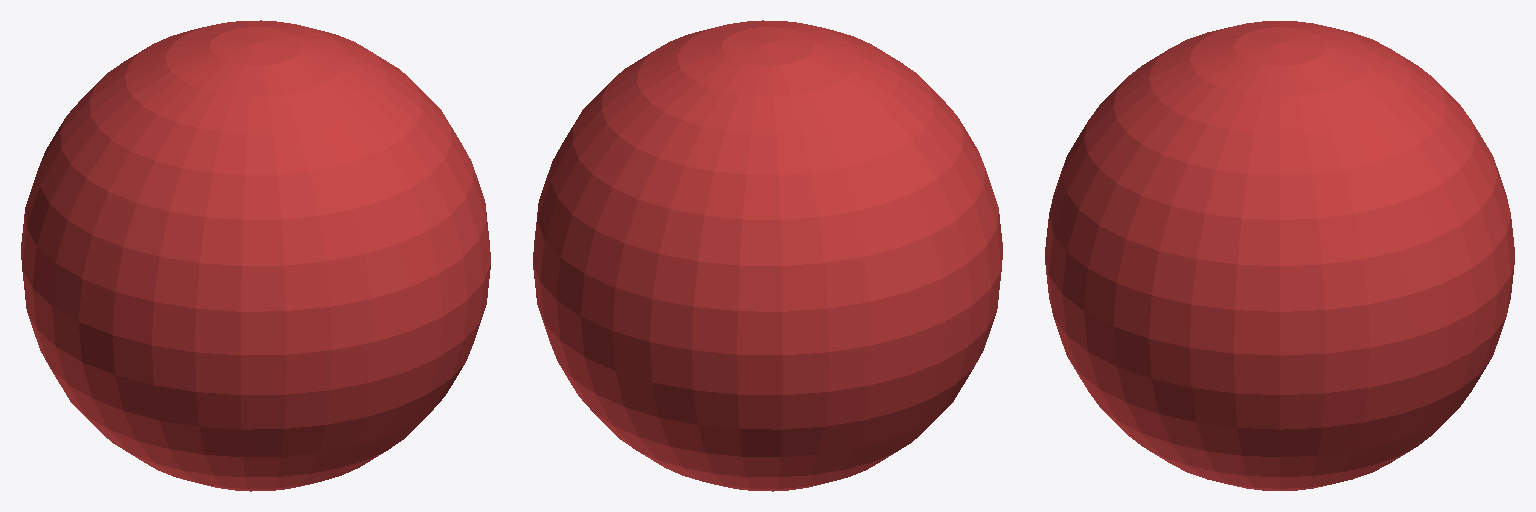
URDF robot description (simple_ball):
<?xml version="2.0" ?>
<robot name="simple_ball">

  <link name="ball">
    <contact>
        <lateral_friction value="1"/>
        <spinning_friction value="1"/>
    </contact>

    <inertial>
      <mass value="0.1" />
      <origin xyz="0 0 0" /> 
      <inertia  ixx="1.0" ixy="0.0"  ixz="0.0"  iyy="1.0"  iyz="0.0"  izz="1.0" />
    </inertial>
    <visual>
      <origin xyz="0 0 0" rpy="0 0 0" />
      <geometry>
        <sphere radius="0.1"/>
      </geometry>
      <material name="object_red"/>
    </visual>
    <collision>
      <origin xyz="0 0 0" rpy="0 0 0" />
      <geometry>
        <sphere radius="0.05"/>
      </geometry>
    </collision>
  </link>

  <material name="object_red">
    <color rgba=".8 .3 .3 1."/>
  </material>
</robot>

--- Render facts (derived) ---
3 views of the same robot in one strip: view 1: azimuth 30°, elevation 25°; view 2: azimuth 150°, elevation 25°; view 3: azimuth 270°, elevation 25° (orthographic).
Model simple_ball with 1 links and 0 joints (none), rooted at ball, posed all joints at 0.
Visible links, largest first — view 1: ball; view 2: ball; view 3: ball.
Link boxes in pixels (x1,y1,x2,y2): ball: (21, 20, 490, 491); ball: (533, 20, 1002, 491); ball: (1045, 21, 1514, 490).
Size in the robot's own frame: 0.2 by 0.2 by 0.2 metres.
Geometry: primitives only (box / cylinder / sphere), no mesh files.